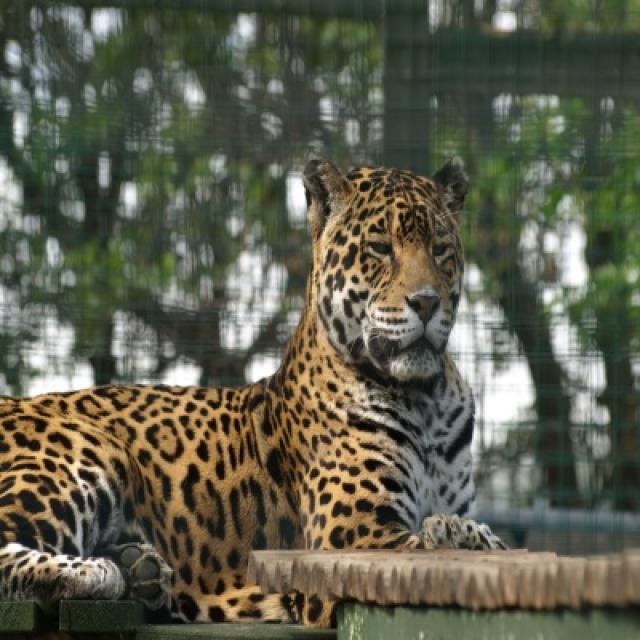Jaguar: (0, 157, 498, 624)
